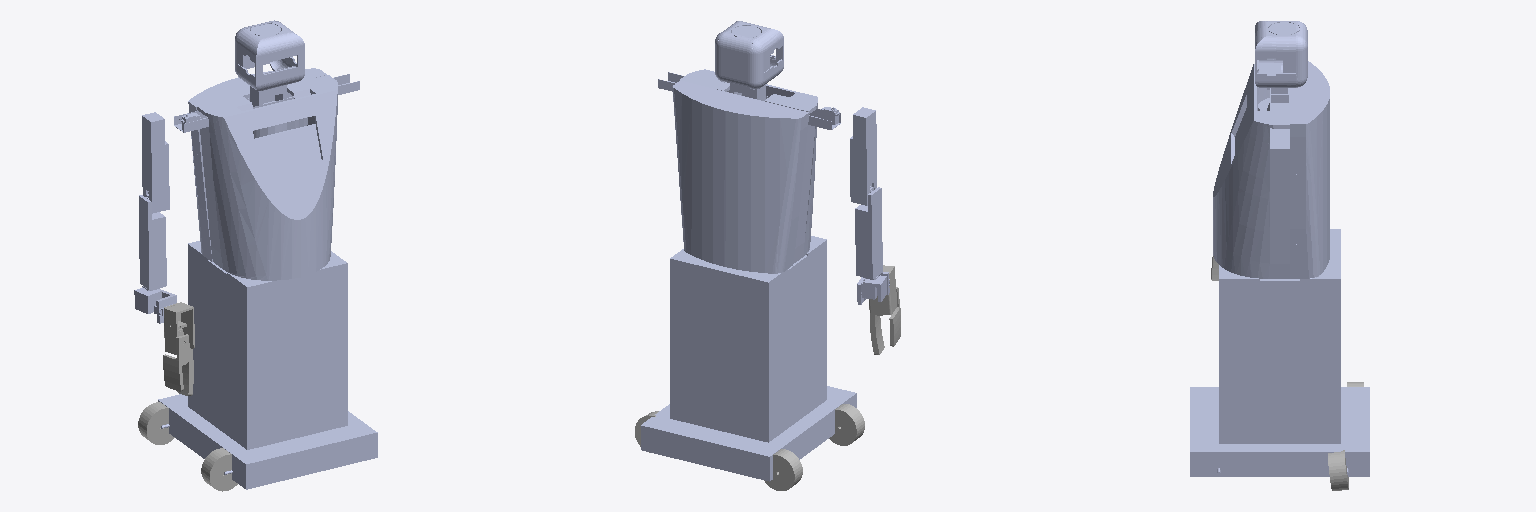
URDF robot description (dummy_ardop2):
<robot
  name="dummy_ardop2">
  <link
    name="base_link">
    <inertial>
      <origin
        xyz="0.23525 -0.35636 -0.16004"
        rpy="0 0 0" />
      <mass
        value="62.913" />
      <inertia
        ixx="3.1177"
        ixy="0.00059306"
        ixz="0.0015251"
        iyy="3.068"
        iyz="0.014463"
        izz="0.050374" />
    </inertial>
    <visual>
      <origin
        xyz="0 0 0"
        rpy="0 0 0" />
      <geometry>
        <mesh
          filename="package://dummy_ardop2/meshes/base_link.STL" />
      </geometry>
      <material
        name="">
        <color
          rgba="0.79216 0.81961 0.93333 1" />
      </material>
    </visual>
    <collision>
      <origin
        xyz="0 0 0"
        rpy="0 0 0" />
      <geometry>
        <mesh
          filename="package://dummy_ardop2/meshes/base_link.STL" />
      </geometry>
    </collision>
  </link>
  <link
    name="wheel_front_left_Link">
    <inertial>
      <origin
        xyz="0.0075 -1.1435E-14 2.5535E-14"
        rpy="0 0 0" />
      <mass
        value="0.01907" />
      <inertia
        ixx="0"
        ixy="0"
        ixz="0"
        iyy="0"
        iyz="0"
        izz="0" />
    </inertial>
    <visual>
      <origin
        xyz="0 0 0"
        rpy="0 0 0" />
      <geometry>
        <mesh
          filename="package://dummy_ardop2/meshes/wheel_front_left_Link.STL" />
      </geometry>
      <material
        name="">
        <color
          rgba="0.75294 0.75294 0.75294 1" />
      </material>
    </visual>
    <collision>
      <origin
        xyz="0 0 0"
        rpy="0 0 0" />
      <geometry>
        <mesh
          filename="package://dummy_ardop2/meshes/wheel_front_left_Link.STL" />
      </geometry>
    </collision>
  </link>
  <joint
    name="wheel_front_left_joint"
    type="continuous">
    <origin
      xyz="0.42534 -0.50619 -0.47879"
      rpy="0.85877 0 0" />
    <parent
      link="base_link" />
    <child
      link="wheel_front_left_Link" />
    <axis
      xyz="1 0 0" />
  </joint>
  <link
    name="wheel_front_right_Link">
    <inertial>
      <origin
        xyz="0.0075 -1.7764E-15 3.8525E-14"
        rpy="0 0 0" />
      <mass
        value="0.01907" />
      <inertia
        ixx="0"
        ixy="0"
        ixz="0"
        iyy="0"
        iyz="0"
        izz="0" />
    </inertial>
    <visual>
      <origin
        xyz="0 0 0"
        rpy="0 0 0" />
      <geometry>
        <mesh
          filename="package://dummy_ardop2/meshes/wheel_front_right_Link.STL" />
      </geometry>
      <material
        name="">
        <color
          rgba="0.75294 0.75294 0.75294 1" />
      </material>
    </visual>
    <collision>
      <origin
        xyz="0 0 0"
        rpy="0 0 0" />
      <geometry>
        <mesh
          filename="package://dummy_ardop2/meshes/wheel_front_right_Link.STL" />
      </geometry>
    </collision>
  </link>
  <joint
    name="wheel_front_right_joint"
    type="continuous">
    <origin
      xyz="0.030335 -0.50619 -0.47879"
      rpy="1.5708 0 0" />
    <parent
      link="base_link" />
    <child
      link="wheel_front_right_Link" />
    <axis
      xyz="1 0 0" />
  </joint>
  <link
    name="wheel_back_left_Link">
    <inertial>
      <origin
        xyz="0.0075 -8.0491E-15 3.7748E-15"
        rpy="0 0 0" />
      <mass
        value="0.01907" />
      <inertia
        ixx="0"
        ixy="0"
        ixz="0"
        iyy="0"
        iyz="0"
        izz="0" />
    </inertial>
    <visual>
      <origin
        xyz="0 0 0"
        rpy="0 0 0" />
      <geometry>
        <mesh
          filename="package://dummy_ardop2/meshes/wheel_back_left_Link.STL" />
      </geometry>
      <material
        name="">
        <color
          rgba="0.75294 0.75294 0.75294 1" />
      </material>
    </visual>
    <collision>
      <origin
        xyz="0 0 0"
        rpy="0 0 0" />
      <geometry>
        <mesh
          filename="package://dummy_ardop2/meshes/wheel_back_left_Link.STL" />
      </geometry>
    </collision>
  </link>
  <joint
    name="wheel_back_left_joint"
    type="continuous">
    <origin
      xyz="0.42534 -0.19004 -0.47879"
      rpy="1.6891 0 0" />
    <parent
      link="base_link" />
    <child
      link="wheel_back_left_Link" />
    <axis
      xyz="1 0 0" />
  </joint>
  <link
    name="wheel_back_right_Link">
    <inertial>
      <origin
        xyz="0.0075 -1.7764E-15 3.8525E-14"
        rpy="0 0 0" />
      <mass
        value="0.01907" />
      <inertia
        ixx="0"
        ixy="0"
        ixz="0"
        iyy="0"
        iyz="0"
        izz="0" />
    </inertial>
    <visual>
      <origin
        xyz="0 0 0"
        rpy="0 0 0" />
      <geometry>
        <mesh
          filename="package://dummy_ardop2/meshes/wheel_back_right_Link.STL" />
      </geometry>
      <material
        name="">
        <color
          rgba="0.75294 0.75294 0.75294 1" />
      </material>
    </visual>
    <collision>
      <origin
        xyz="0 0 0"
        rpy="0 0 0" />
      <geometry>
        <mesh
          filename="package://dummy_ardop2/meshes/wheel_back_right_Link.STL" />
      </geometry>
    </collision>
  </link>
  <joint
    name="wheel_back_right_joint"
    type="continuous">
    <origin
      xyz="0.030335 -0.19004 -0.47879"
      rpy="1.5708 0 0" />
    <parent
      link="base_link" />
    <child
      link="wheel_back_right_Link" />
    <axis
      xyz="1 0 0" />
  </joint>
  <link
    name="shoulder_Link">
    <inertial>
      <origin
        xyz="0.008031 0.036032 0.043945"
        rpy="0 0 0" />
      <mass
        value="0.20851" />
      <inertia
        ixx="1.404E-05"
        ixy="2.131E-06"
        ixz="-4.3377E-07"
        iyy="8.9543E-07"
        iyz="2.7441E-06"
        izz="1.3818E-05" />
    </inertial>
    <visual>
      <origin
        xyz="0 0 0"
        rpy="0 0 0" />
      <geometry>
        <mesh
          filename="package://dummy_ardop2/meshes/shoulder_Link.STL" />
      </geometry>
      <material
        name="">
        <color
          rgba="0.098039 0.098039 0.098039 1" />
      </material>
    </visual>
    <collision>
      <origin
        xyz="0 0 0"
        rpy="0 0 0" />
      <geometry>
        <mesh
          filename="package://dummy_ardop2/meshes/shoulder_Link.STL" />
      </geometry>
    </collision>
  </link>
  <joint
    name="shoulder_joint"
    type="continuous">
    <origin
      xyz="-0.0058888 -0.36975 0.40275"
      rpy="-1.0091E-17 6.0393E-17 1.4052" />
    <parent
      link="base_link" />
    <child
      link="shoulder_Link" />
    <axis
      xyz="0 0 1" />
  </joint>
  <link
    name="bicep_Link">
    <inertial>
      <origin
        xyz="0.034133 -0.09449 -0.013707"
        rpy="0 0 0" />
      <mass
        value="0.5828" />
      <inertia
        ixx="0.0003407"
        ixy="1.662E-05"
        ixz="4.7233E-07"
        iyy="1.1231E-06"
        iyz="-9.556E-06"
        izz="0.00034128" />
    </inertial>
    <visual>
      <origin
        xyz="0 0 0"
        rpy="0 0 0" />
      <geometry>
        <mesh
          filename="package://dummy_ardop2/meshes/bicep_Link.STL" />
      </geometry>
      <material
        name="">
        <color
          rgba="0.79216 0.81961 0.93333 1" />
      </material>
    </visual>
    <collision>
      <origin
        xyz="0 0 0"
        rpy="0 0 0" />
      <geometry>
        <mesh
          filename="package://dummy_ardop2/meshes/bicep_Link.STL" />
      </geometry>
    </collision>
  </link>
  <joint
    name="bicep_joint"
    type="continuous">
    <origin
      xyz="0.0026622 0.055751 0.04"
      rpy="1.5837 -4.5667E-16 1.5708" />
    <parent
      link="shoulder_Link" />
    <child
      link="bicep_Link" />
    <axis
      xyz="-1 0 0" />
  </joint>
  <link
    name="forearm_Link">
    <inertial>
      <origin
        xyz="0.035227 -0.11565 -0.010858"
        rpy="0 0 0" />
      <mass
        value="0.4986" />
      <inertia
        ixx="0.00027883"
        ixy="-4.3269E-06"
        ixz="2.2369E-07"
        iyy="8.1139E-07"
        iyz="1.4291E-05"
        izz="0.00027817" />
    </inertial>
    <visual>
      <origin
        xyz="0 0 0"
        rpy="0 0 0" />
      <geometry>
        <mesh
          filename="package://dummy_ardop2/meshes/forearm_Link.STL" />
      </geometry>
      <material
        name="">
        <color
          rgba="0.79216 0.81961 0.93333 1" />
      </material>
    </visual>
    <collision>
      <origin
        xyz="0 0 0"
        rpy="0 0 0" />
      <geometry>
        <mesh
          filename="package://dummy_ardop2/meshes/forearm_Link.STL" />
      </geometry>
    </collision>
  </link>
  <joint
    name="forearm_joint"
    type="continuous">
    <origin
      xyz="0.0094954 -0.20676 -0.00095309"
      rpy="0.065442 2.7756E-17 -9.3241E-16" />
    <parent
      link="bicep_Link" />
    <child
      link="forearm_Link" />
    <axis
      xyz="-1 0 0" />
  </joint>
  <link
    name="wrist_Link">
    <inertial>
      <origin
        xyz="-0.00103 -0.0092846 0.025689"
        rpy="0 0 0" />
      <mass
        value="0.10422" />
      <inertia
        ixx="8.9202E-06"
        ixy="4.595E-06"
        ixz="1.8228E-06"
        iyy="3.9523E-06"
        iyz="-3.0574E-06"
        izz="1.0447E-05" />
    </inertial>
    <visual>
      <origin
        xyz="0 0 0"
        rpy="0 0 0" />
      <geometry>
        <mesh
          filename="package://dummy_ardop2/meshes/wrist_Link.STL" />
      </geometry>
      <material
        name="">
        <color
          rgba="0.79216 0.81961 0.93333 1" />
      </material>
    </visual>
    <collision>
      <origin
        xyz="0 0 0"
        rpy="0 0 0" />
      <geometry>
        <mesh
          filename="package://dummy_ardop2/meshes/wrist_Link.STL" />
      </geometry>
    </collision>
  </link>
  <joint
    name="wrist_joint"
    type="continuous">
    <origin
      xyz="0.046015 -0.227 0"
      rpy="1.5708 -0.11078 1.5499E-15" />
    <parent
      link="forearm_Link" />
    <child
      link="wrist_Link" />
    <axis
      xyz="-0.0086546 -0.077803 -0.99693" />
  </joint>
  <link
    name="wrist2_Link">
    <inertial>
      <origin
        xyz="0.043754 0.0094939 -0.016867"
        rpy="0 0 0" />
      <mass
        value="0.10043" />
      <inertia
        ixx="8.6551E-06"
        ixy="8.421E-10"
        ixz="-8.8748E-06"
        iyy="1.7755E-05"
        iyz="8.2126E-10"
        izz="9.1E-06" />
    </inertial>
    <visual>
      <origin
        xyz="0 0 0"
        rpy="0 0 0" />
      <geometry>
        <mesh
          filename="package://dummy_ardop2/meshes/wrist2_Link.STL" />
      </geometry>
      <material
        name="">
        <color
          rgba="0.79216 0.81961 0.93333 1" />
      </material>
    </visual>
    <collision>
      <origin
        xyz="0 0 0"
        rpy="0 0 0" />
      <geometry>
        <mesh
          filename="package://dummy_ardop2/meshes/wrist2_Link.STL" />
      </geometry>
    </collision>
  </link>
  <joint
    name="wrist2_joint"
    type="continuous">
    <origin
      xyz="0 0 0.049959"
      rpy="-1.5489 0.0095341 -2.0545" />
    <parent
      link="wrist_Link" />
    <child
      link="wrist2_Link" />
    <axis
      xyz="0 0 -1" />
  </joint>
  <link
    name="end_effector_Link">
    <inertial>
      <origin
        xyz="-0.041143 -0.1005 -0.098738"
        rpy="0 0 0" />
      <mass
        value="0.30657" />
      <inertia
        ixx="0.00082815"
        ixy="-3.0883E-05"
        ixz="6.0791E-05"
        iyy="0.00089218"
        iyz="-4.583E-05"
        izz="0.00010023" />
    </inertial>
    <visual>
      <origin
        xyz="0 0 0"
        rpy="0 0 0" />
      <geometry>
        <mesh
          filename="package://dummy_ardop2/meshes/end_effector_Link.STL" />
      </geometry>
      <material
        name="">
        <color
          rgba="0.75294 0.75294 0.75294 1" />
      </material>
    </visual>
    <collision>
      <origin
        xyz="0 0 0"
        rpy="0 0 0" />
      <geometry>
        <mesh
          filename="package://dummy_ardop2/meshes/end_effector_Link.STL" />
      </geometry>
    </collision>
  </link>
  <joint
    name="end_effector_joint"
    type="continuous">
    <origin
      xyz="0.00023082 0.0087946 -0.051094"
      rpy="3.1416 1.5347 -1.5708" />
    <parent
      link="wrist2_Link" />
    <child
      link="end_effector_Link" />
    <axis
      xyz="0 -1 0" />
  </joint>
</robot>

--- Facts derived from the render (not from the file) ---
3 views of the same robot in one strip: view 1: azimuth 30°, elevation 25°; view 2: azimuth 150°, elevation 25°; view 3: azimuth 270°, elevation 25° (orthographic).
Robot: dummy_ardop2 — 11 links, 10 joints (10 continuous); root link base_link; default pose: all joints at 0.
Visible links, largest first — view 1: base_link, end_effector_Link, bicep_Link, forearm_Link, wheel_back_right_Link, wheel_front_right_Link, wrist_Link; view 2: base_link, bicep_Link, forearm_Link, end_effector_Link, wheel_back_right_Link, wheel_front_right_Link, wrist_Link; view 3: base_link, wheel_back_left_Link.
Boxes of the visible links, bbox=[...] form: base_link: bbox=[158, 20, 377, 489]; end_effector_Link: bbox=[163, 302, 194, 395]; bicep_Link: bbox=[142, 112, 169, 213]; forearm_Link: bbox=[139, 195, 166, 290]; wheel_back_right_Link: bbox=[138, 402, 174, 444]; wheel_front_right_Link: bbox=[201, 448, 237, 491]; wrist_Link: bbox=[134, 287, 161, 313]; base_link: bbox=[641, 21, 856, 481]; bicep_Link: bbox=[850, 107, 876, 205]; forearm_Link: bbox=[855, 187, 882, 279]; end_effector_Link: bbox=[869, 265, 900, 354]; wheel_back_right_Link: bbox=[764, 449, 802, 490]; wheel_front_right_Link: bbox=[829, 404, 864, 445]; wrist_Link: bbox=[861, 275, 886, 301]; base_link: bbox=[1190, 21, 1369, 476]; wheel_back_left_Link: bbox=[1328, 450, 1348, 490].
Size in the robot's own frame: 0.6396 by 0.444 by 1.17 metres.
9 mesh visuals loaded from 11 distinct referenced files (9 binary STL); not drawn: 2 (reference not matched to a file when rendering).